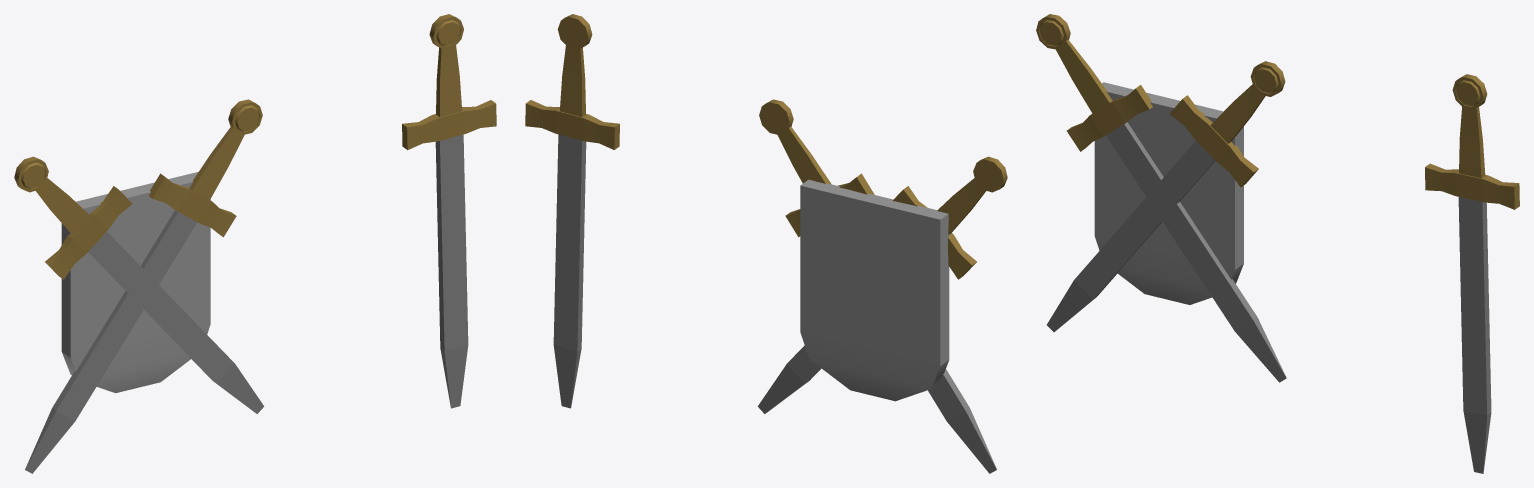
Rendered from War Assets.fbx.
The picture shows the model from 3 angles, left to right: view 1: azimuth 30°, elevation 25°; view 2: azimuth 150°, elevation 25°; view 3: azimuth 330°, elevation 25°; orthographic projection.
Visible parts, largest first — view 1: pCube7, pCube6; view 2: pCube7, pCube6; view 3: pCube7, pCube6.
Part boxes in pixels (bbox=[...]): pCube7: bbox=[14, 99, 264, 473]; pCube6: bbox=[402, 14, 496, 408]; pCube7: bbox=[758, 99, 1007, 473]; pCube6: bbox=[525, 14, 619, 408]; pCube7: bbox=[1036, 14, 1286, 382]; pCube6: bbox=[1425, 74, 1519, 473].
Bounding box in the file's own units: 3.41 × 2.68 × 0.1574.
